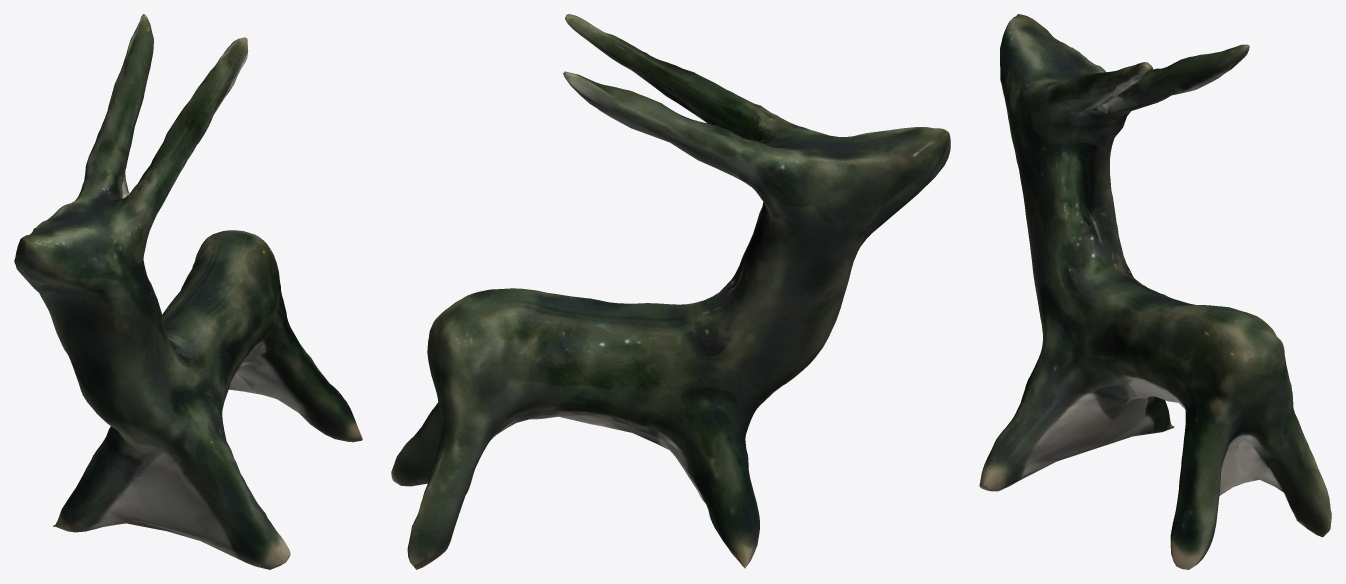
3 renders of one model, left to right at view 1: azimuth 30°, elevation 25°; view 2: azimuth 150°, elevation 25°; view 3: azimuth 270°, elevation 25°, orthographic. The views are drawn at different scales.
Size of the model in its own units: 0.3044 by 0.3158 by 0.2235.
1 material, 1 textured.
